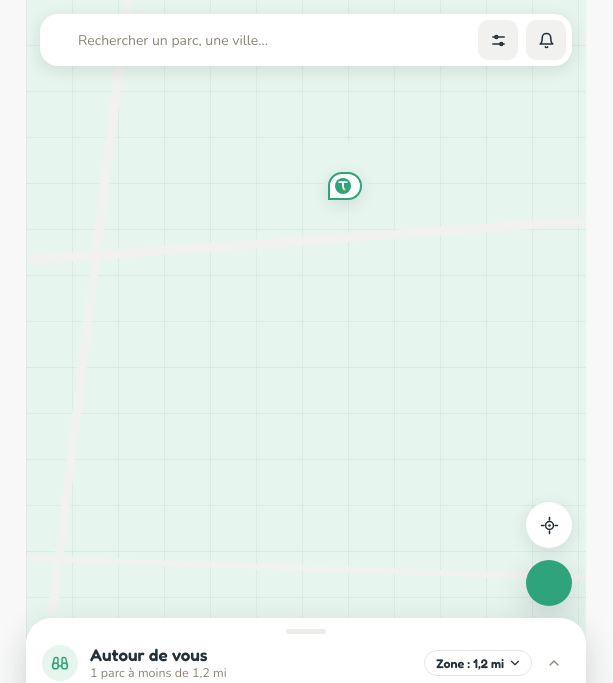
Test: Explorer — recherche › destination vs. location permission › denied + destination with parks → « Autour de Barcelone »
Expected: the text "Autour de vous" is shown, left=90, top=644, right=208, bottom=665
Click the button "Rechercher un parc, une ville…" at {"x": 262, "y": 40}, box left=54, top=14, right=470, bottom=66
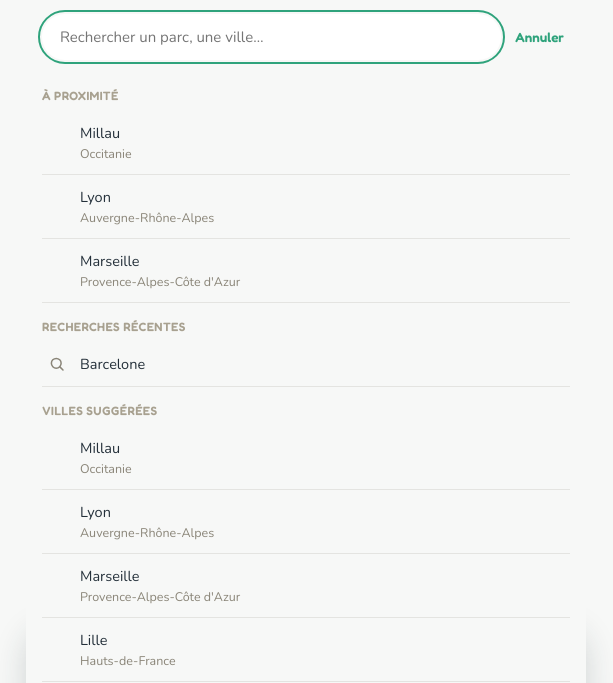
Type "Barcelone" into the field with placeholder "Rechercher un parc, une ville…" at {"x": 272, "y": 37}, box left=42, top=14, right=501, bottom=60
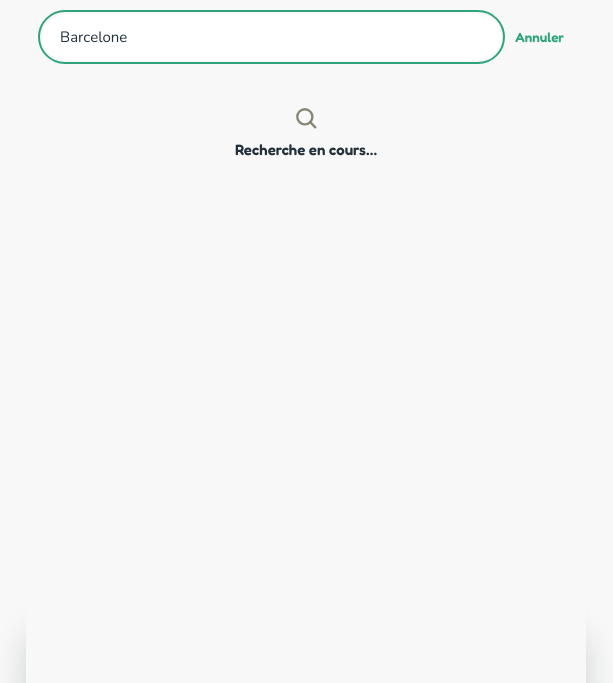
Submit the form with placeholder "Rechercher un parc, une ville…", box left=26, top=0, right=586, bottom=72
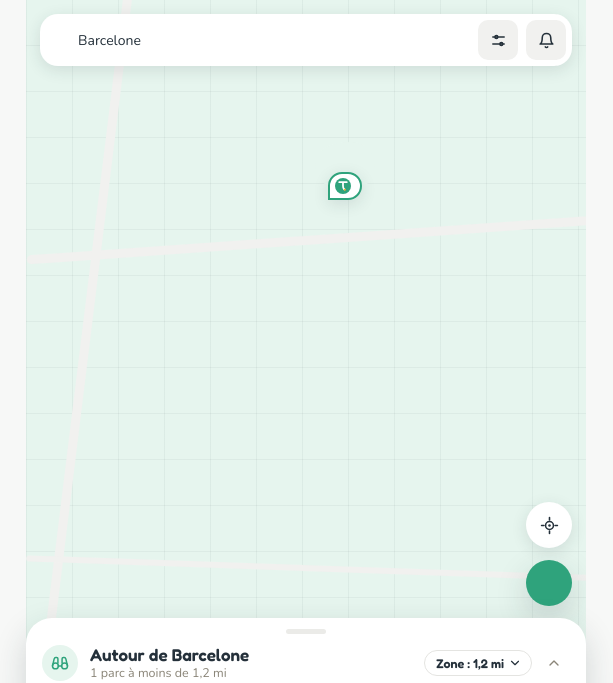
Now the text "Autour de Barcelone" is shown, box left=90, top=644, right=249, bottom=665
